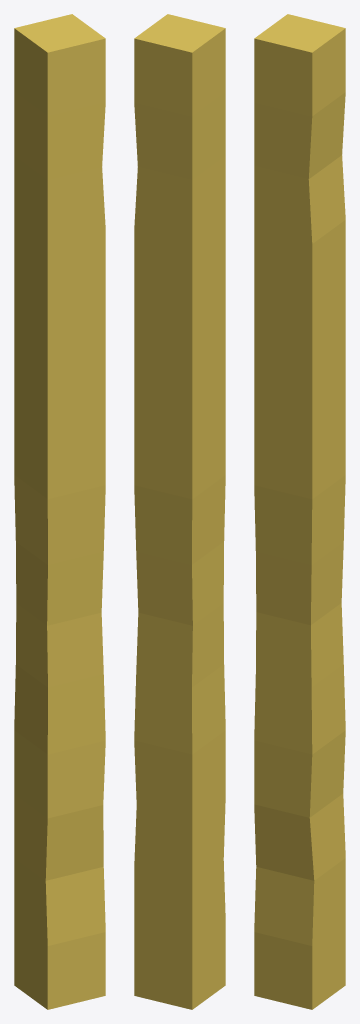
File: 左木柱1.fbx
3 renders of one model, left to right at view 1: azimuth 30°, elevation 25°; view 2: azimuth 150°, elevation 25°; view 3: azimuth 330°, elevation 25°, orthographic.
Visible parts, largest first — view 1: L.wood.7; view 2: L.wood.7; view 3: L.wood.7.
Boxes of the visible parts, x1,y1,x2,y2 form: L.wood.7: (14, 14, 105, 1009); L.wood.7: (134, 14, 225, 1009); L.wood.7: (254, 14, 345, 1009).
Size of the model in its own units: 64.89 by 1022 by 64.9.
